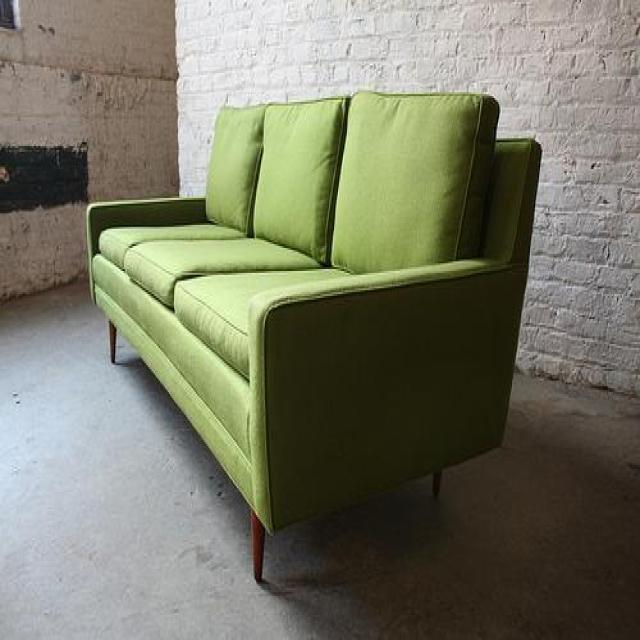sofa: (84, 94, 542, 586)
